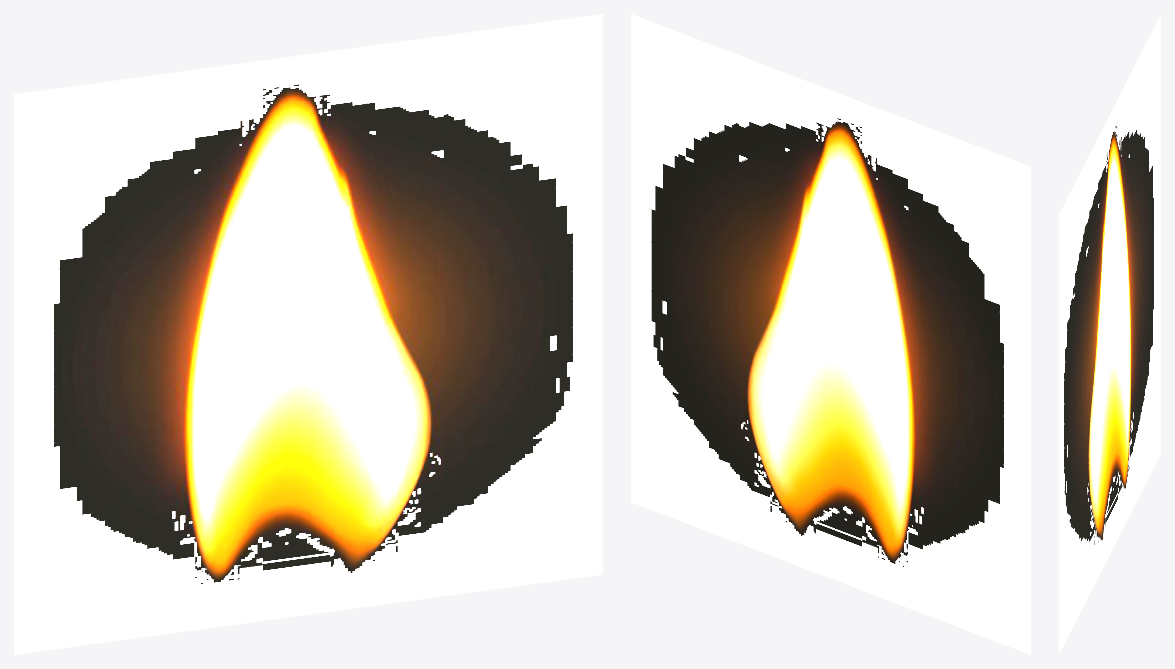
3 renders of one model, left to right at view 1: azimuth 30°, elevation 25°; view 2: azimuth 150°, elevation 25°; view 3: azimuth 270°, elevation 25°, orthographic. The views are drawn at different scales.
Visible parts, largest first — view 1: _148; view 2: _148; view 3: _148.
Part boxes in pixels (x1,y1,x2,y2): _148: (14,14,602,654); _148: (631,14,1030,654); _148: (1059,14,1160,654).
Bounding box in the file's own units: 10.96 × 11.21 × 2.35.
